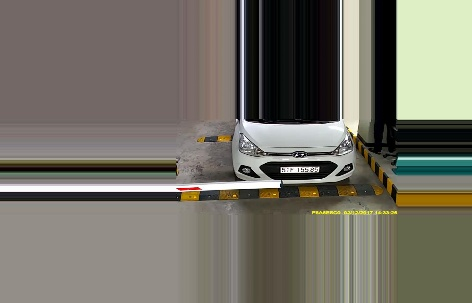plate: (279, 163, 319, 175)
